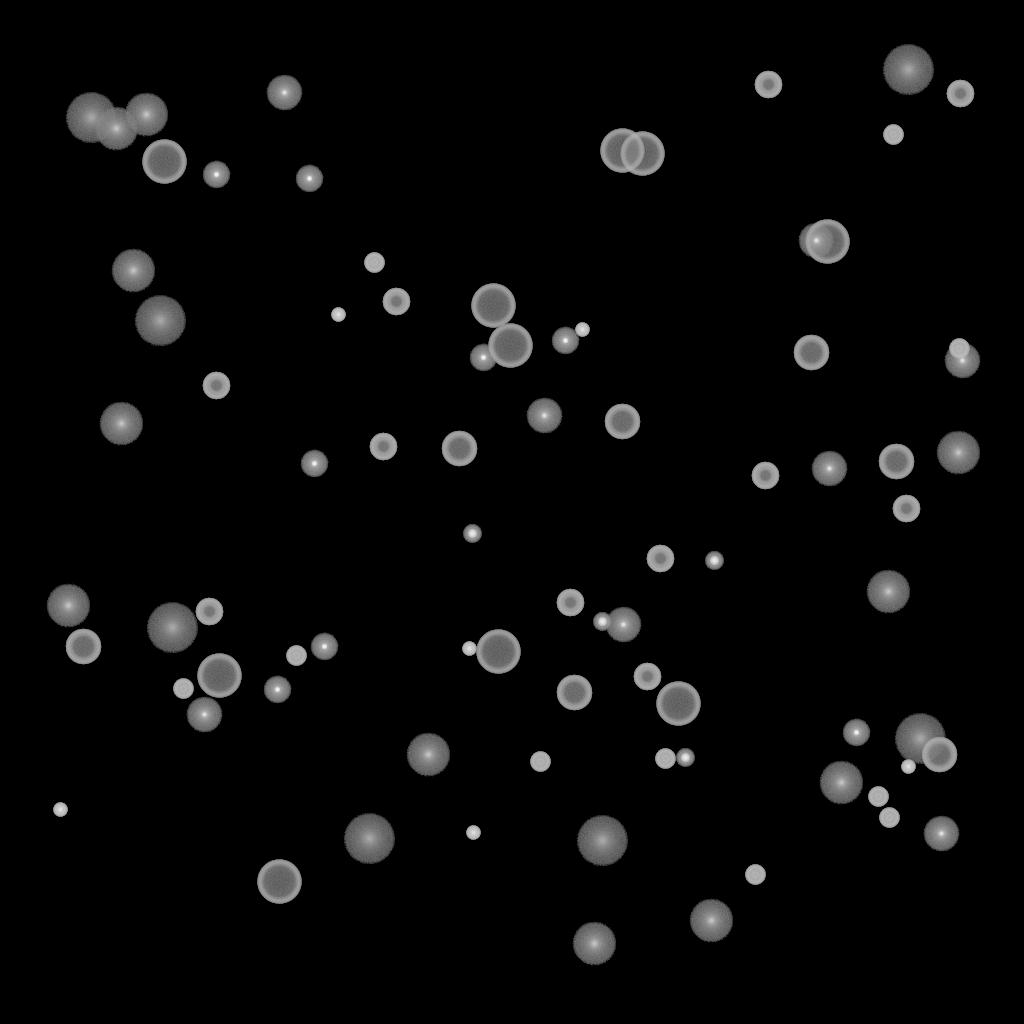depth:-10: (295, 165, 323, 193), (300, 450, 328, 478), (202, 161, 230, 189), (469, 344, 497, 372), (263, 676, 291, 704), (310, 633, 338, 661), (842, 719, 870, 747), (551, 327, 579, 355)
depth:-20: (593, 613, 611, 631), (463, 525, 481, 543), (676, 749, 694, 767), (705, 552, 723, 570)
depth:-30: (466, 826, 480, 840), (331, 308, 345, 322), (462, 642, 476, 656), (901, 760, 915, 774), (53, 803, 67, 817), (575, 323, 589, 337)
depth:-40: (879, 808, 899, 828), (530, 752, 550, 772), (883, 125, 903, 145), (949, 339, 969, 359), (173, 679, 193, 699), (868, 787, 888, 807), (655, 749, 675, 769), (286, 646, 306, 666), (745, 865, 765, 885), (364, 253, 384, 273)
depth:-50: (751, 462, 779, 490), (195, 598, 223, 626), (633, 663, 661, 691), (556, 589, 584, 617), (369, 433, 397, 461), (946, 80, 974, 108), (382, 288, 410, 316), (892, 495, 920, 523), (754, 71, 782, 99), (646, 545, 674, 573), (202, 372, 230, 400)
depth:-60: (65, 629, 101, 665), (793, 335, 829, 371), (878, 444, 914, 480), (921, 737, 957, 773), (604, 404, 640, 440), (441, 431, 477, 467), (556, 675, 592, 711)
depth:-70: (805, 220, 849, 264), (656, 682, 700, 726), (142, 140, 186, 184), (488, 324, 532, 368), (476, 630, 520, 674), (620, 132, 664, 176), (257, 860, 301, 904), (600, 129, 644, 173), (471, 284, 515, 328), (197, 654, 241, 698)
depth:0: (526, 398, 562, 434), (266, 75, 302, 111), (605, 607, 641, 643), (923, 816, 959, 852), (811, 451, 847, 487), (944, 343, 980, 379), (186, 697, 222, 733), (798, 223, 834, 259)
depth:10: (406, 733, 450, 777), (936, 431, 980, 475), (866, 570, 910, 614), (819, 761, 863, 805), (99, 402, 143, 446), (572, 922, 616, 966), (46, 584, 90, 628), (94, 107, 138, 151), (124, 93, 168, 137), (111, 249, 155, 293), (689, 899, 733, 943)
depth:20: (343, 814, 395, 864), (894, 714, 946, 764), (882, 45, 934, 95), (134, 296, 186, 346), (576, 816, 628, 866), (65, 93, 117, 143), (146, 603, 198, 653)
